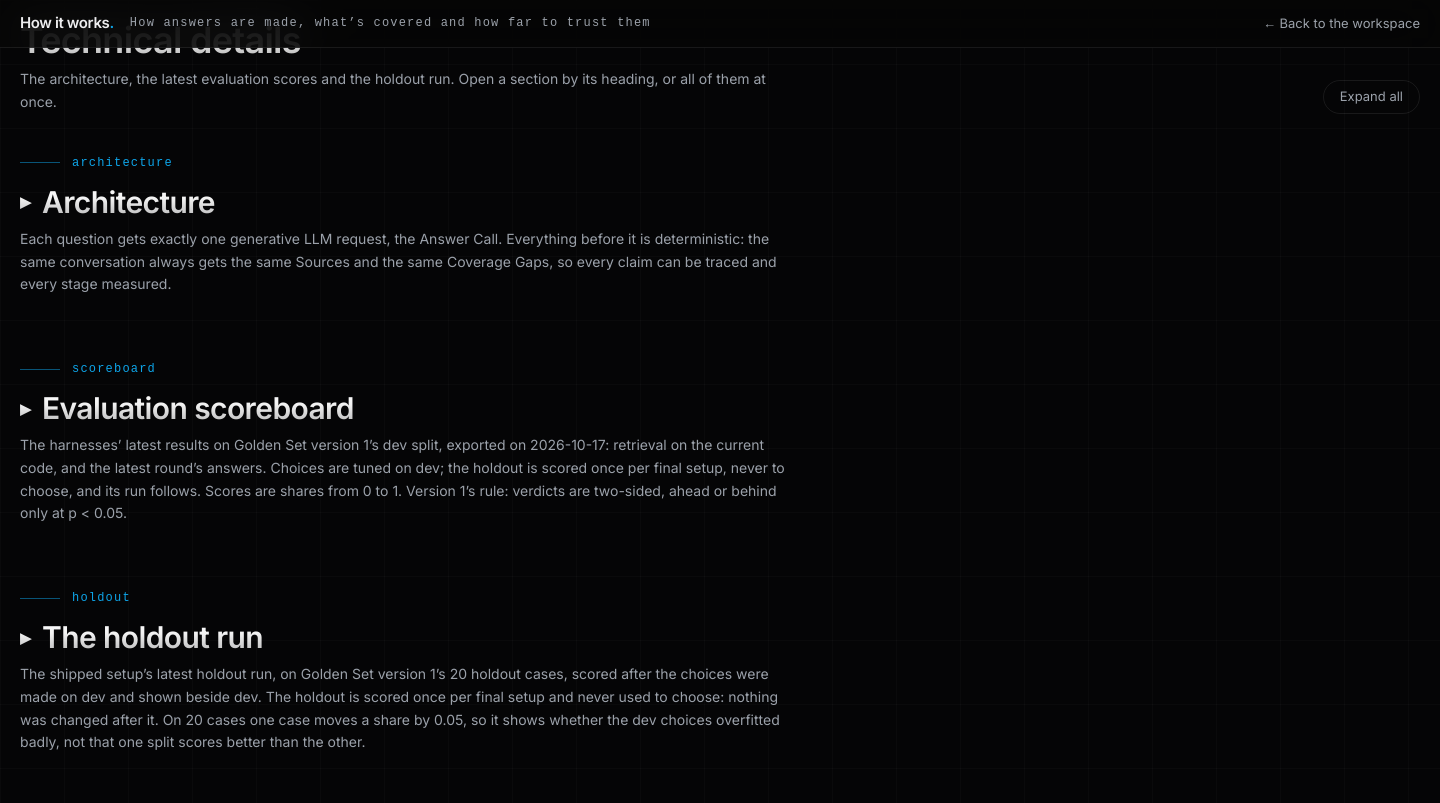
Test: the "How it works" page › shows a version 1 export as version 1 gated it, with its two-sided rule
(page scrolled)
Click the button "▸ Evaluation scoreboard". click: [187, 408]
box: [20,390,354,426]
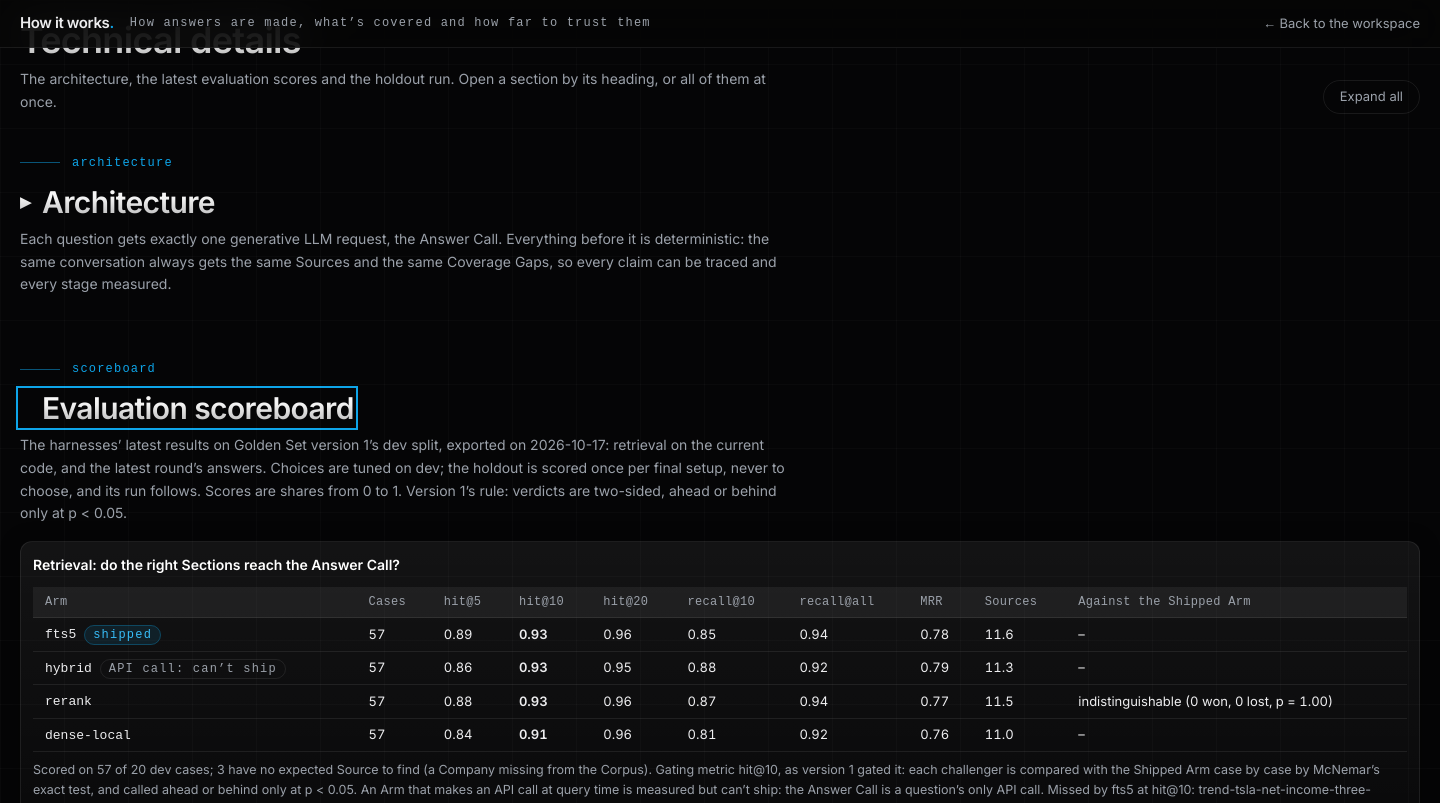
Expected: the element "Evaluation scoreboard" shows "Version 1’s rule: verdicts are two-sided", [20,482,777,521]
Result: the row "rerank" shows "indistinguishable (0 won, 0 lost, p = 1.00)" at [1078,693,1333,709]
